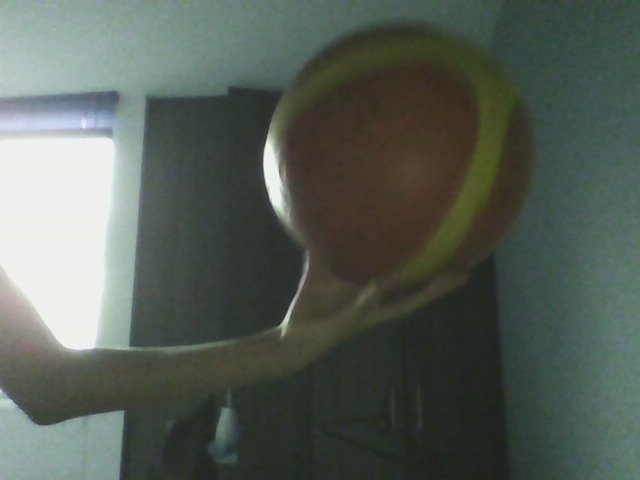balon: (229, 21, 565, 311)
